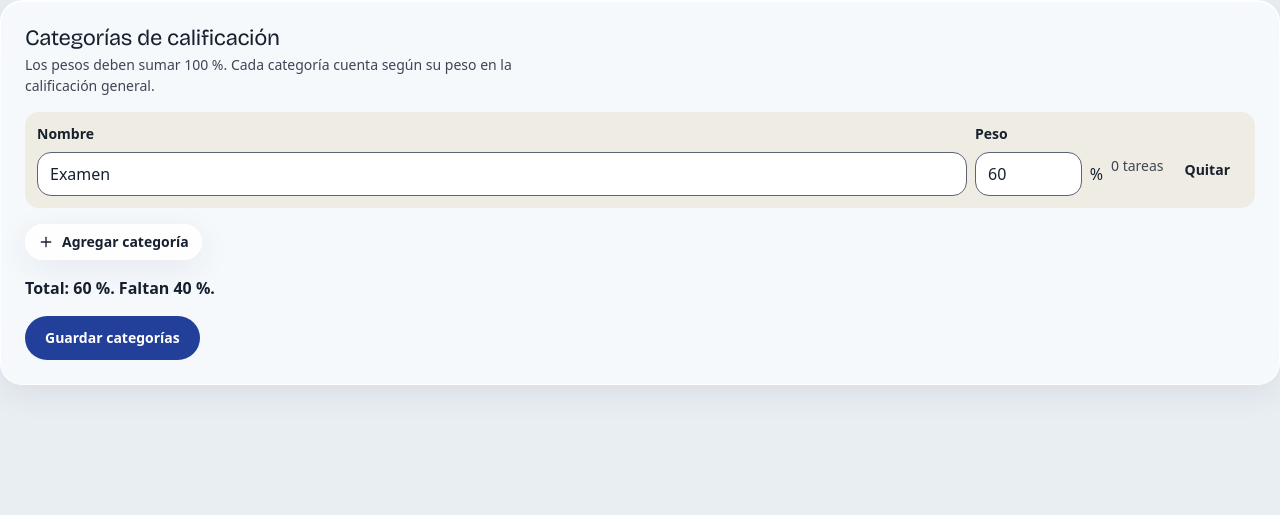
Test: CategoriasView (PR-1E03) › PR-1E03 · agregar, editar y quitar filas; el total en vivo dice si es exacto, si faltan o si sobran
Expected: the field showing "Examen" is shown, [37, 152, 967, 196]
Expected: the message reads "Total: 60 %. Faltan 40 %.", [25, 277, 215, 299]
Click the button "Agregar categoría" at (113, 242), box [25, 224, 202, 260]
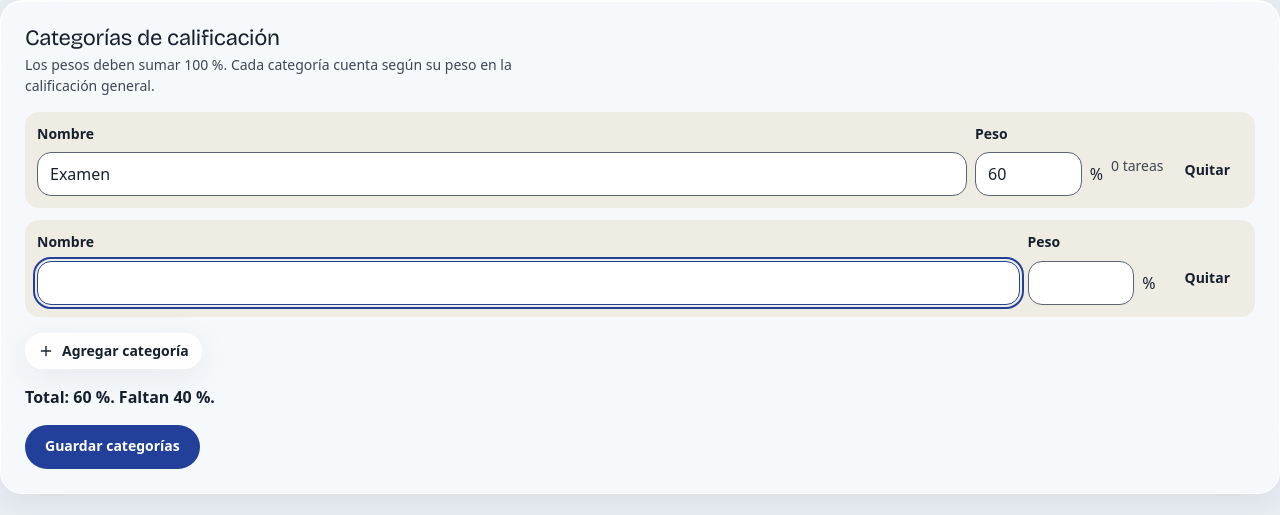
Type "Proyecto" into the 2nd field labelled "Nombre" at (528, 283), box [37, 261, 1020, 305]
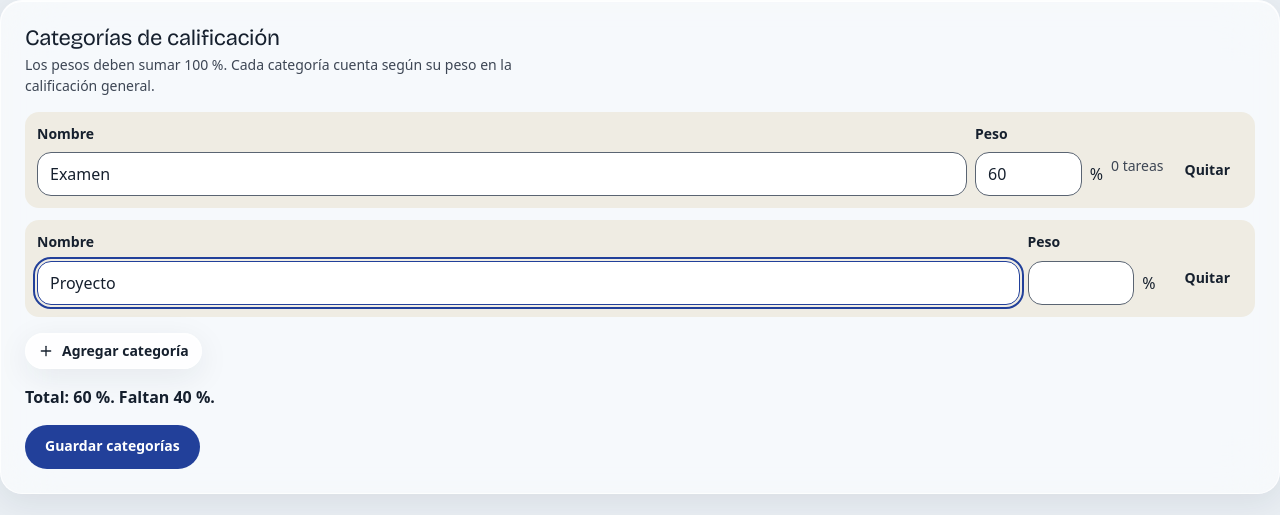
Type "40" into the 2nd field labelled "Peso" at (1081, 283), box [1028, 261, 1134, 305]
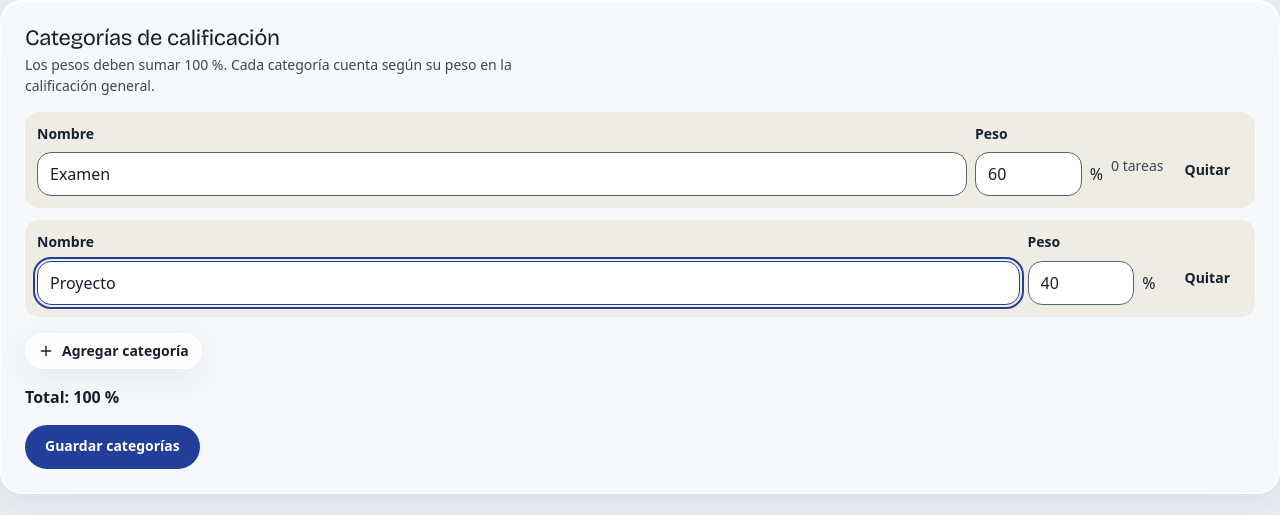
Now the message reads "Total: 100 %", box [25, 386, 119, 408]
Replace the text in the 2nd field labelled "Peso" with "50" at (1081, 283), box [1028, 261, 1134, 305]
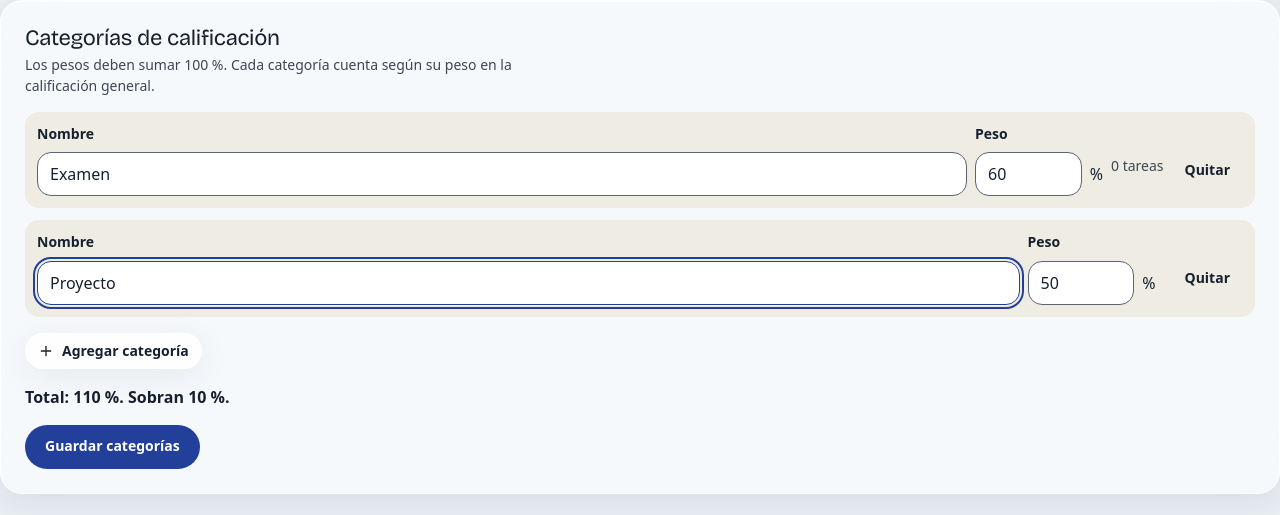
Now the message reads "Total: 110 %. Sobran 10 %.", box [25, 386, 230, 408]
Click the 2nd button "Quitar" at (1207, 278), box [1172, 260, 1243, 296]
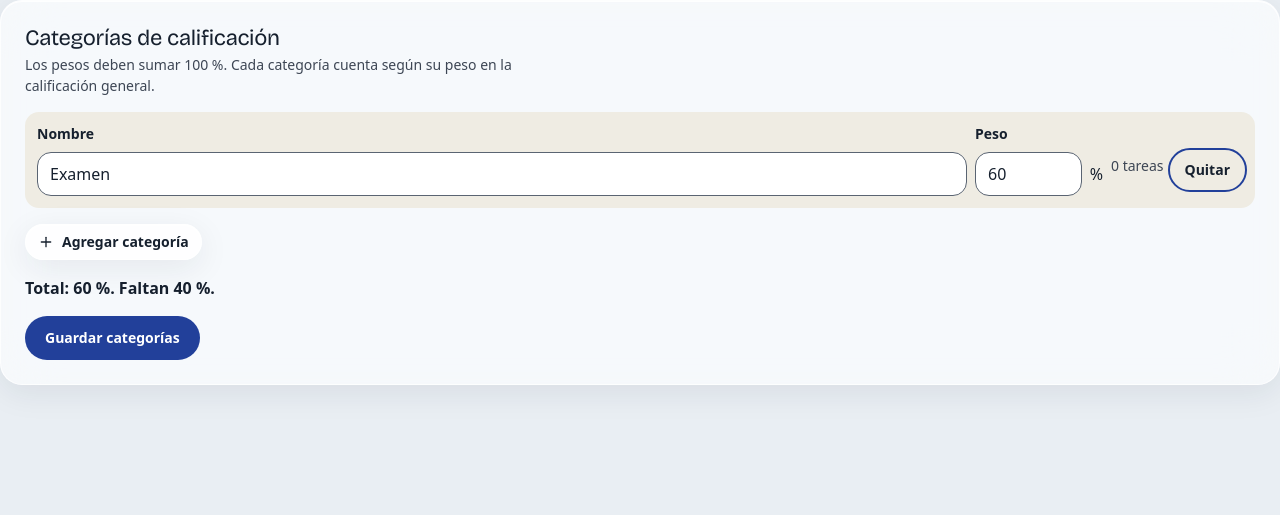
Now the message reads "Total: 60 %. Faltan 40 %.", box [25, 277, 215, 299]
